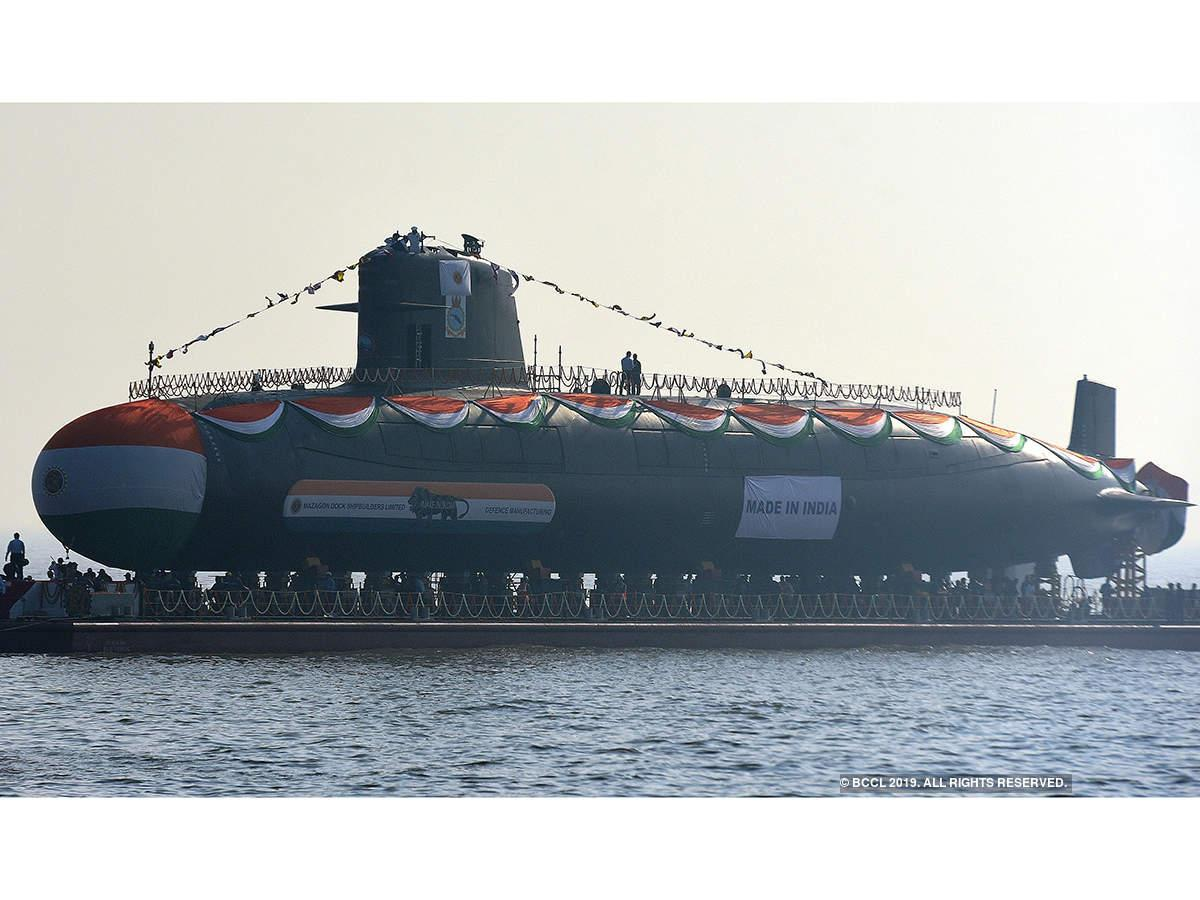Submarine: (20, 112, 1198, 585)
